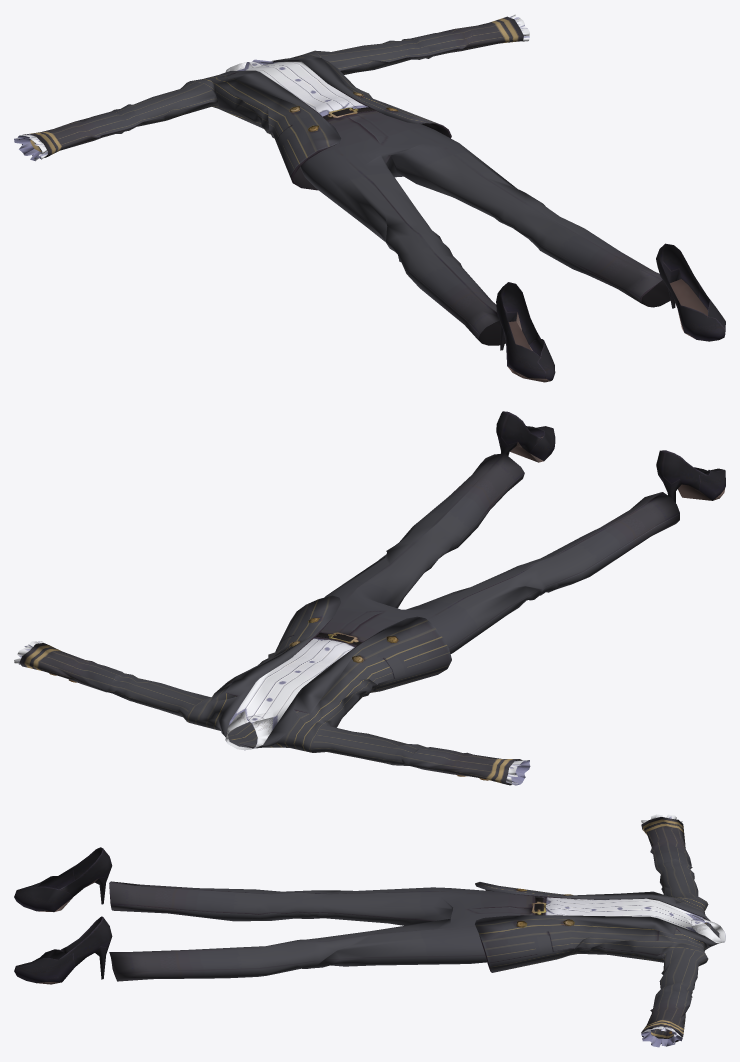
The model's file is RikoGround.fbx.
The picture shows the model from 3 angles, top to bottom: view 1: azimuth 30°, elevation 25°; view 2: azimuth 150°, elevation 25°; view 3: azimuth 270°, elevation 25°; orthographic projection. The views are drawn at different scales.
Visible parts, largest first — view 1: M_Body; view 2: M_Body; view 3: M_Body.
Boxes of the visible parts, left/top/right/bottom form: M_Body: left=14, top=14, right=725, bottom=382; M_Body: left=14, top=411, right=725, bottom=785; M_Body: left=14, top=814, right=725, bottom=1047.
Size of the model in its own units: 0.6309 by 0.0966 by 0.8682.
